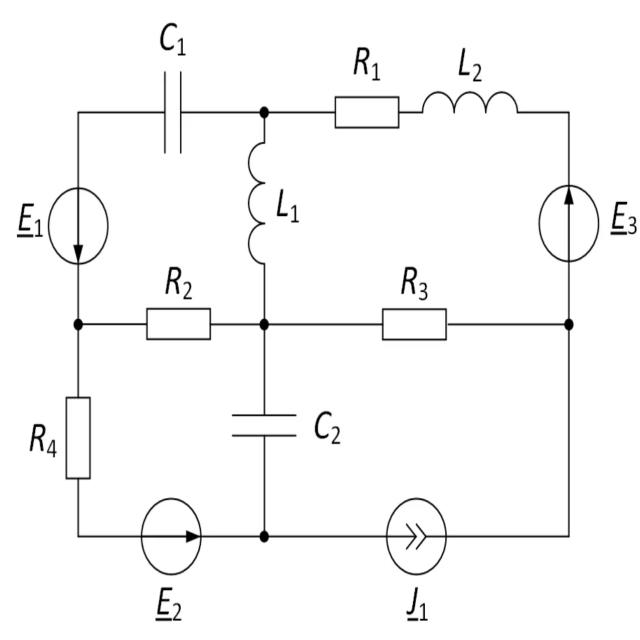cap: (224, 403, 304, 445), (158, 63, 190, 160)
ind: (246, 134, 274, 273), (418, 87, 521, 121)
net: (72, 107, 169, 124), (70, 104, 88, 194), (442, 531, 580, 541), (512, 100, 574, 122), (72, 525, 146, 543), (564, 108, 574, 192), (74, 474, 85, 543)
net_node: (564, 257, 576, 543), (205, 315, 388, 332), (197, 530, 391, 544), (176, 105, 339, 119), (443, 318, 580, 332), (259, 256, 270, 419), (72, 314, 151, 333), (70, 312, 86, 404), (261, 430, 271, 546), (74, 259, 86, 337), (257, 100, 272, 146)
res: (378, 301, 452, 347), (61, 394, 95, 484), (144, 303, 217, 344), (333, 93, 404, 133)
source: (137, 492, 209, 580), (381, 490, 453, 578), (534, 178, 604, 268), (46, 184, 116, 267)
